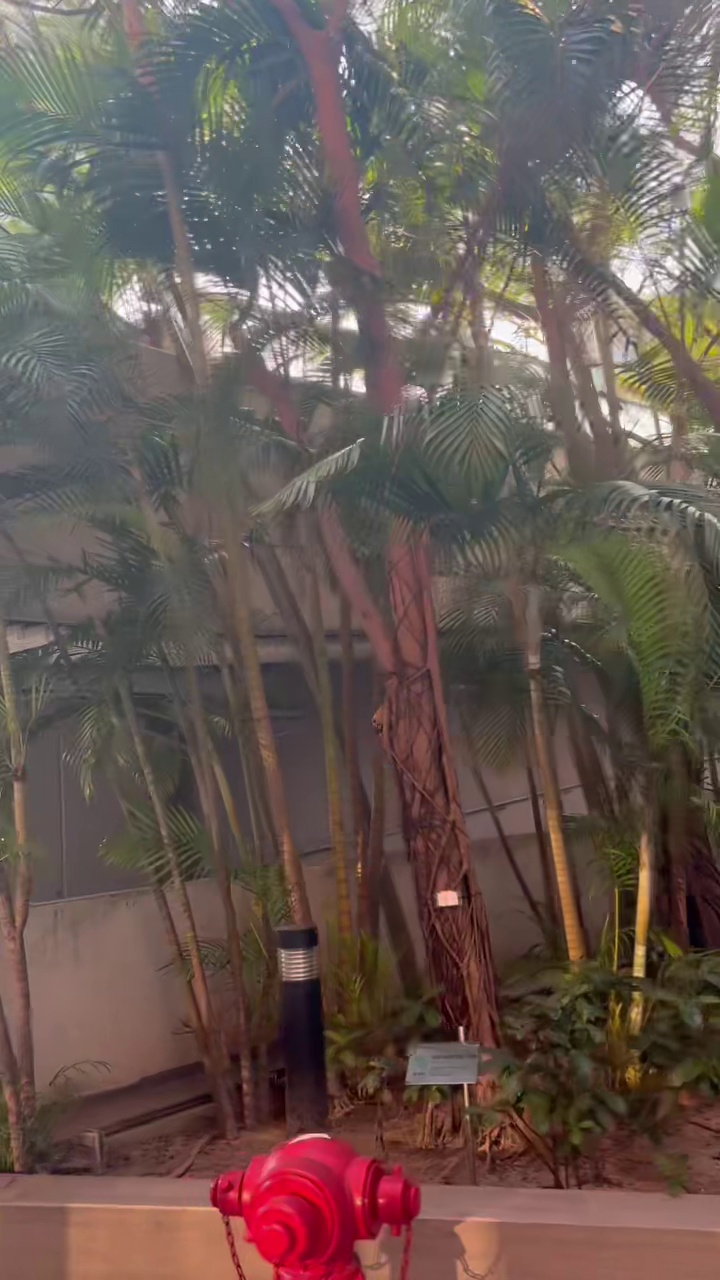Ficus benjamina: (269, 0, 498, 1047)
